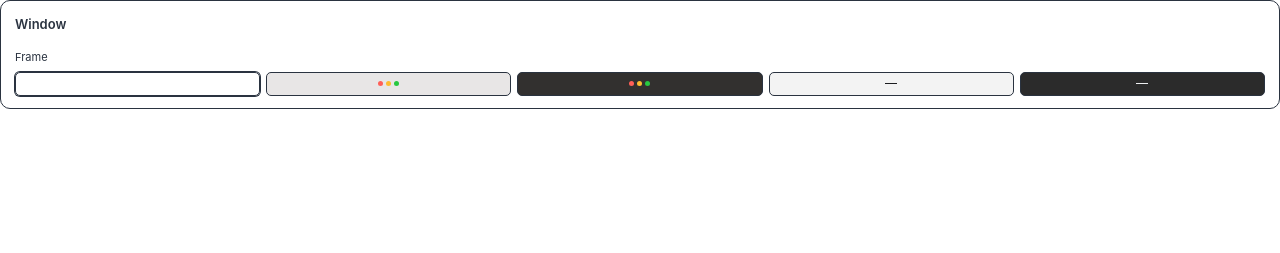
Scenario: chrome fields › only offers title and height once a bar exists
Click the button named "macOS".
click(389, 84)  # box [266,72,511,96]
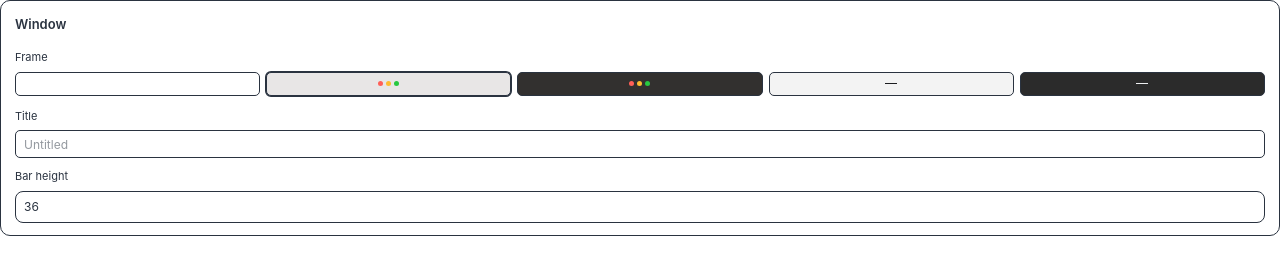
Check: the field named "Window title" is shown, box [15,130,1265,158]
